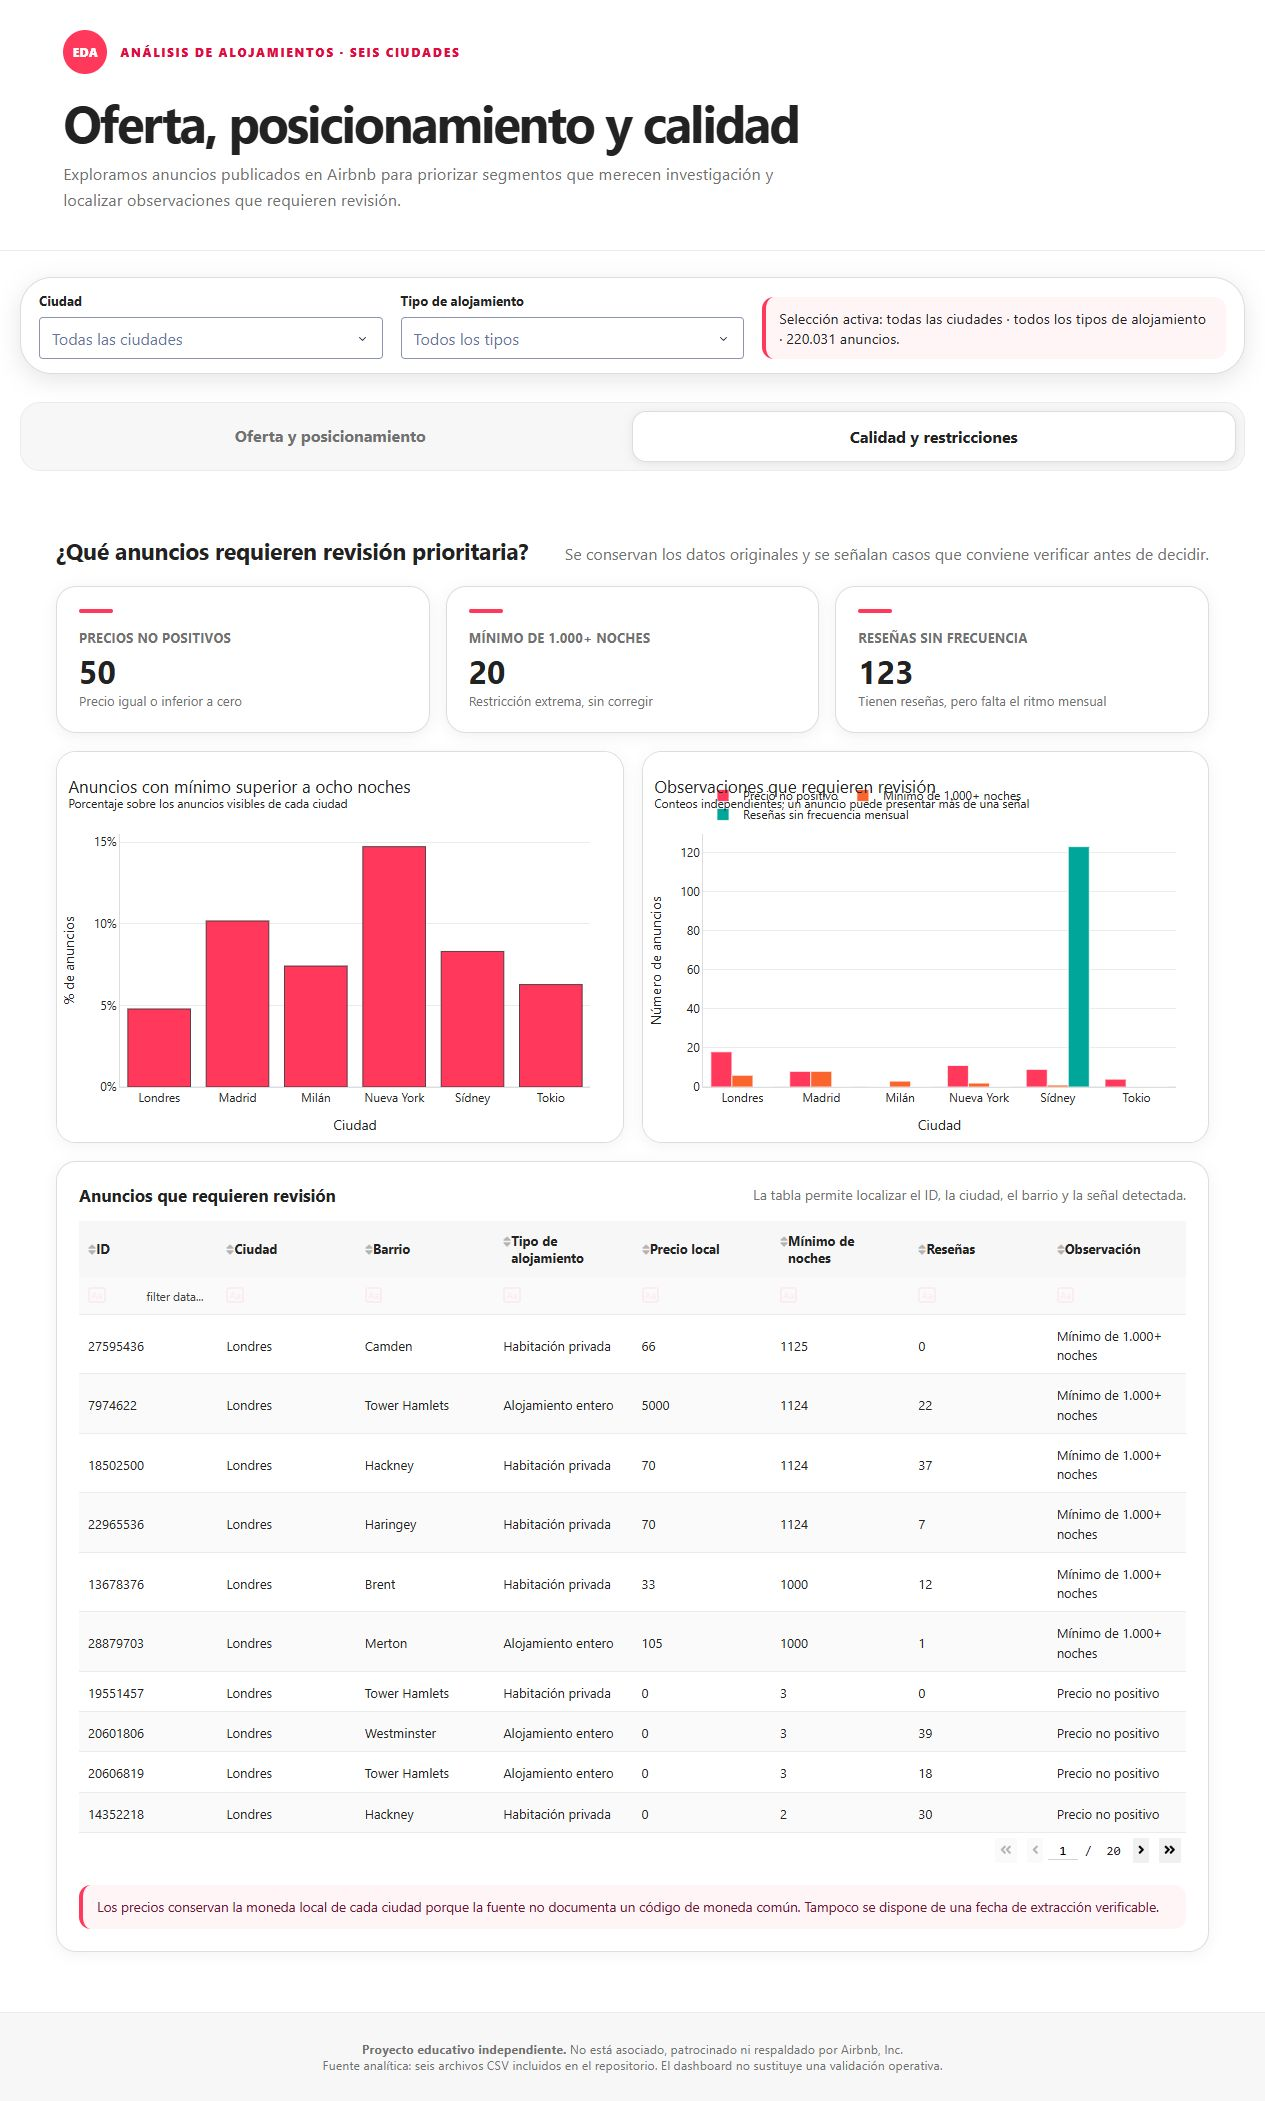

Layout of this report page (visuals, bound fields, positions):
{"tool":"powerbi","page":{"name":"Calidad y restricciones","canvas":[1920,1080],"ordinal":1},"visuals":[{"type":"cardVisual","fields":{"Data":["Listings.Precios no positivos"]},"box":[0,336,231.8,78],"z":0},{"type":"cardVisual","fields":{"Data":["Listings.Estancias mínimas extremas"]},"box":[0,431,231.8,78.3],"z":1},{"type":"cardVisual","fields":{"Data":["Listings.Reseñas sin frecuencia"]},"box":[0,532,231.8,87.5],"z":2},{"type":"slicer","title":"Ciudad","fields":{"Values":["Listings.city"]},"box":[0,167.3,199.5,75],"z":3},{"type":"slicer","title":"Tipo de alojamiento","fields":{"Values":["Listings.room_type"]},"box":[0,81.3,199.5,75],"z":4},{"type":"clusteredBarChart","title":"Anuncios que exigen más de 8 noches por ciudad","fields":{"Category":["Listings.city"],"Y":["Listings.Porcentaje estancia superior a 8 noches"]},"box":[305.4,20,780,443.5],"z":5},{"type":"clusteredColumnChart","title":"Observaciones prioritarias por ciudad","fields":{"Category":["Listings.city"],"Y":["Listings.Precios no positivos","Listings.Estancias mínimas extremas","Listings.Reseñas sin frecuencia"]},"box":[1126.5,20,780,443.5],"z":6},{"type":"tableEx","title":"Anuncios que requieren revisión","fields":{"Values":["Listings.id","Listings.city","Listings.neighbourhood","Listings.room_type","Listings.price","Listings.minimum_nights","Listings.number_of_reviews","Listings.reviews_per_month","Listings.non_positive_price","Listings.minimum_nights_1000_plus","Listings.reviews_without_monthly_rate"]},"box":[305.4,488.1,1600,490],"z":7},{"type":"textbox","box":[305.4,991.5,1614.6,89],"z":8},{"type":"pageNavigator","box":[0,0,265.5,61.4],"z":9}]}

Visuals, with their boxes on the page's 1920x1080 design canvas (x1, y1, x2, y2). These are canvas units, not pixel positions in the 1265x2101 screenshot, which may show the page scaled, cropped or inside an application window:
cardVisual - Listings.Precios no positivos: [0, 336, 232, 414]
cardVisual - Listings.Estancias mínimas extremas: [0, 431, 232, 509]
cardVisual - Listings.Reseñas sin frecuencia: [0, 532, 232, 620]
"Ciudad" slicer: [0, 167, 200, 242]
"Tipo de alojamiento" slicer: [0, 81, 200, 156]
"Anuncios que exigen más de 8 noches por ciudad" clusteredBarChart: [305, 20, 1085, 464]
"Observaciones prioritarias por ciudad" clusteredColumnChart: [1126, 20, 1906, 464]
"Anuncios que requieren revisión" tableEx: [305, 488, 1905, 978]
textbox: [305, 992, 1920, 1080]
pageNavigator: [0, 0, 266, 61]
